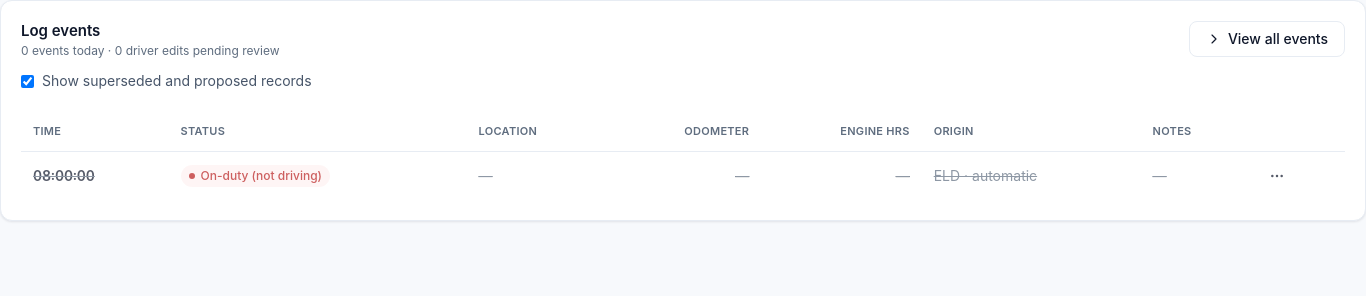
Test case: LogEventsCard — edit action (QA CODE-027) › hides it on a retired original
This screenshot has width=1366, height=296.
Click the button named "Row actions" at {"x": 1277, "y": 176}, box [1261,160,1293,192]
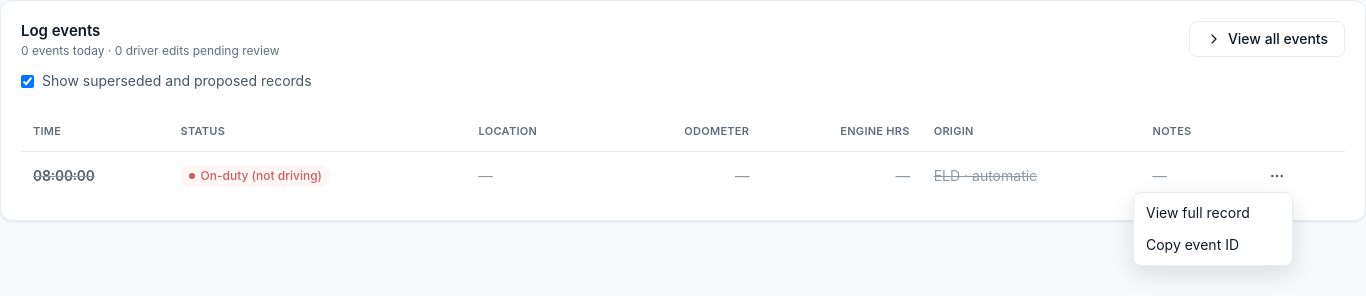
Now the button "View full record" is shown, box [1138,197,1288,229]
